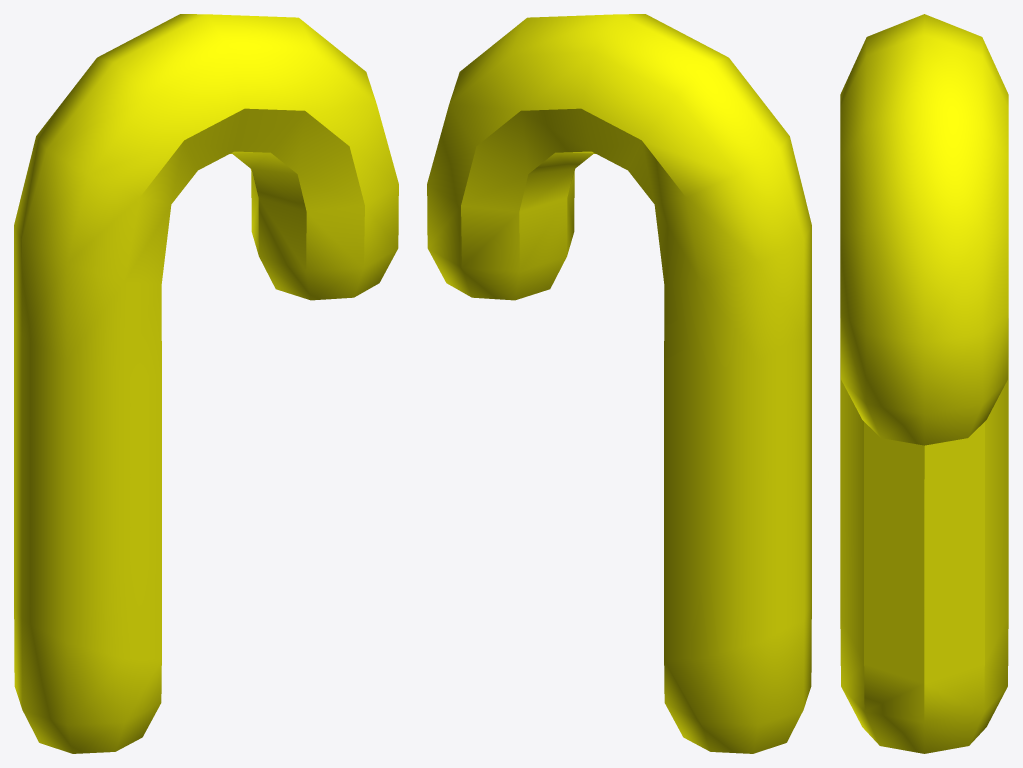
The model's file is kaykit-candycane-small.glb.
3 views of the same model, side by side, from view 1: azimuth 30°, elevation 25°; view 2: azimuth 150°, elevation 25°; view 3: azimuth 270°, elevation 25° (orthographic). The views are drawn at different scales.
Visible parts, largest first — view 1: candycane_small; view 2: candycane_small; view 3: candycane_small.
Boxes of the visible parts, left/top/right/bottom form: candycane_small: left=14, top=14, right=398, bottom=753; candycane_small: left=427, top=14, right=811, bottom=753; candycane_small: left=840, top=14, right=1008, bottom=753.
Size of the model in its own units: 0.3199 by 0.5843 by 0.1149.
